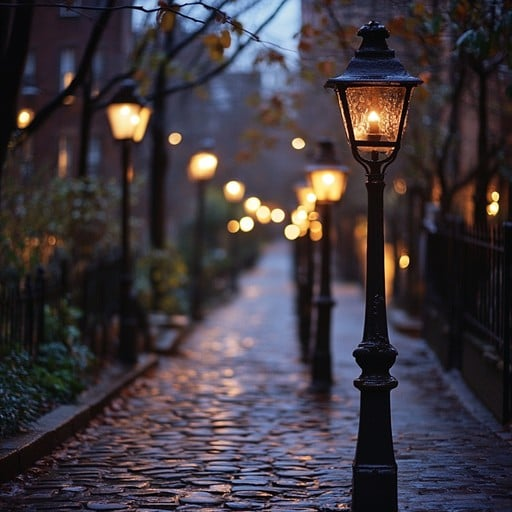Lamp: (332, 22, 418, 512)
